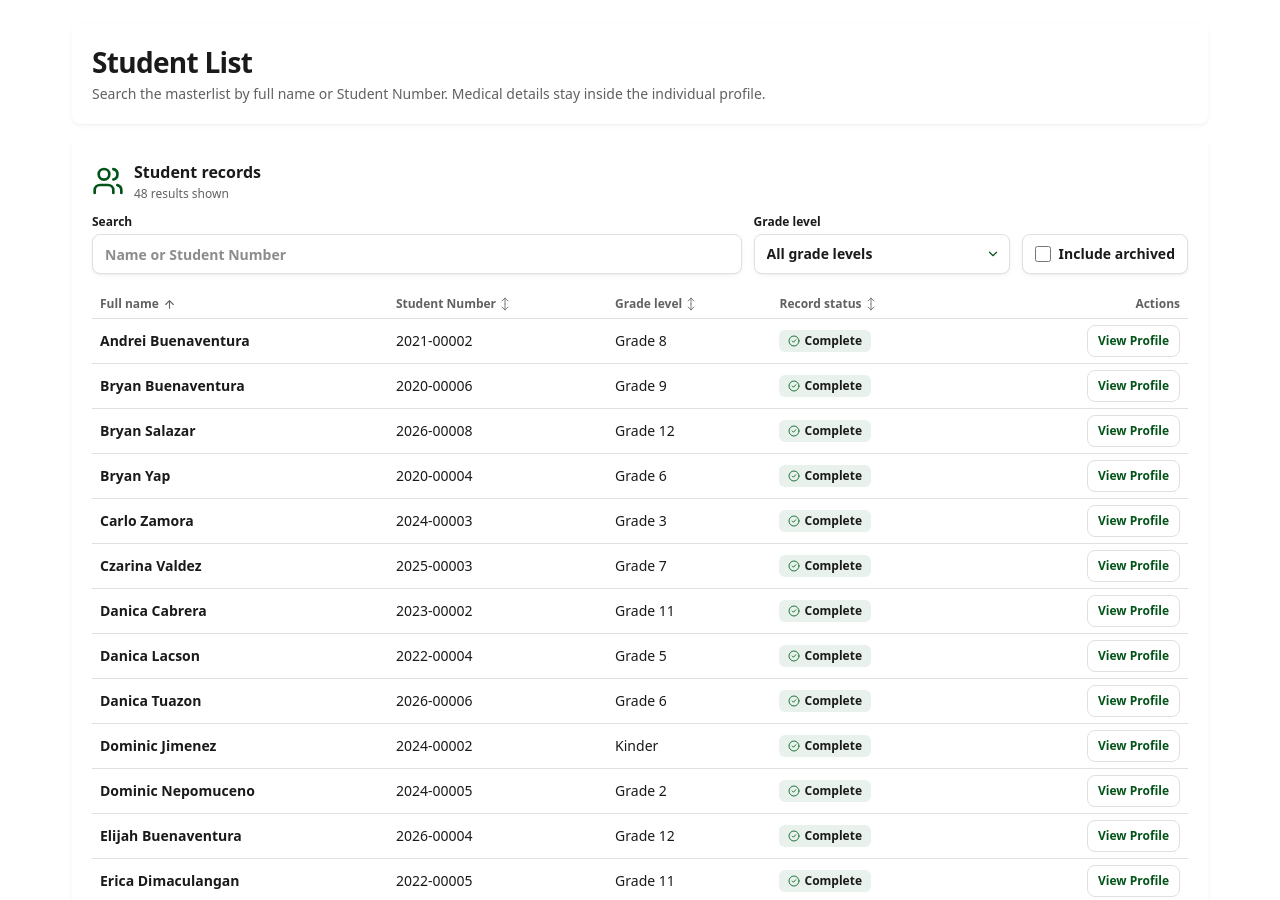
Scenario: Student List › searches by Student Number
Expected: the heading "Student List" is shown, [92, 43, 252, 81]
In the field labelled "Search": (417, 254) [92, 234, 742, 274], type "2021-00002"
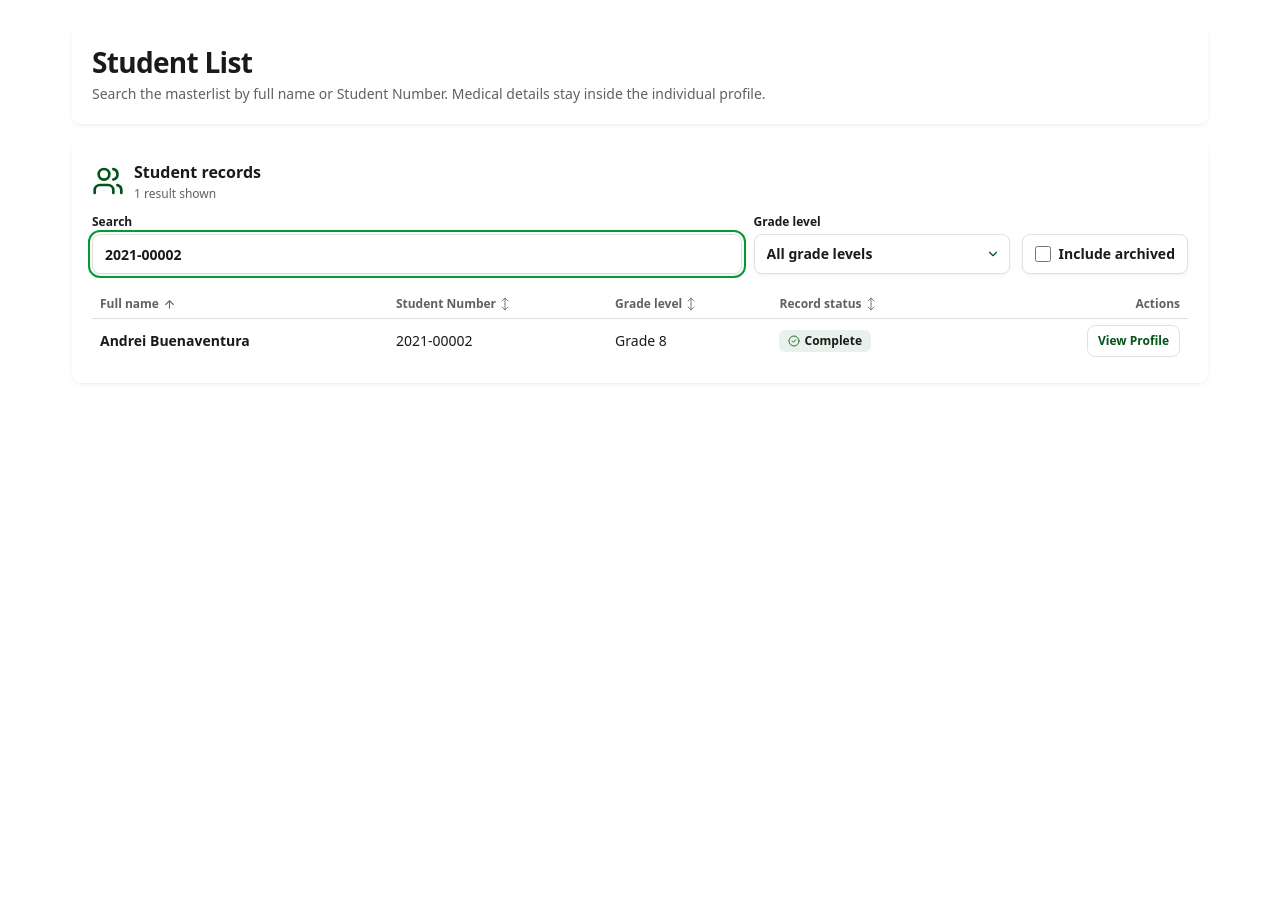
Expected: the column heading "Andrei Buenaventura" is shown, [92, 319, 388, 363]
Expected: the text "1 result shown" is shown, [134, 185, 216, 202]
